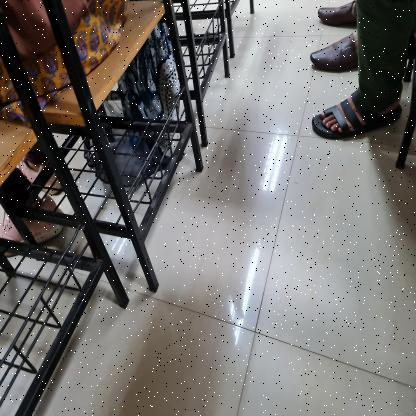leg: (306, 86, 407, 147), (303, 28, 360, 78), (312, 0, 358, 32)
